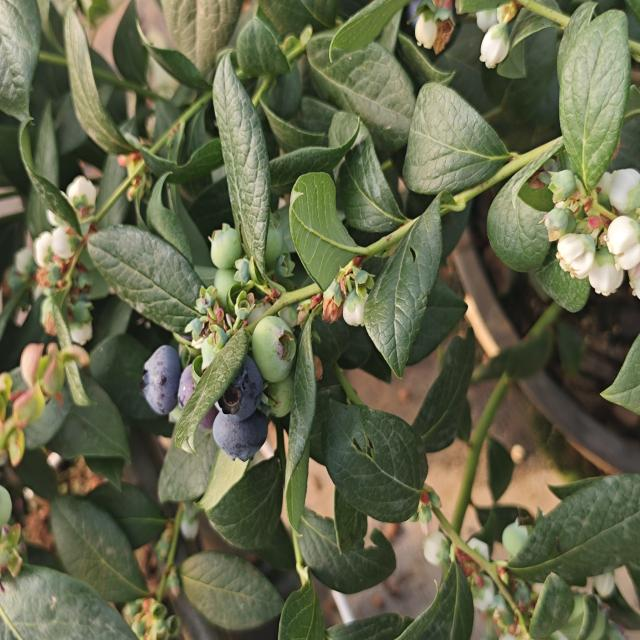ripe: (216, 348, 264, 422), (209, 408, 271, 464), (138, 343, 182, 419), (175, 356, 213, 409)
